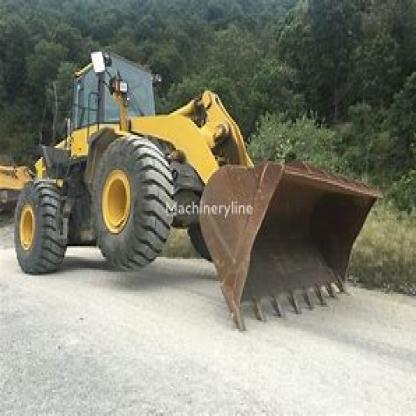bull_dozer/loader/grader: (7, 44, 387, 331)
